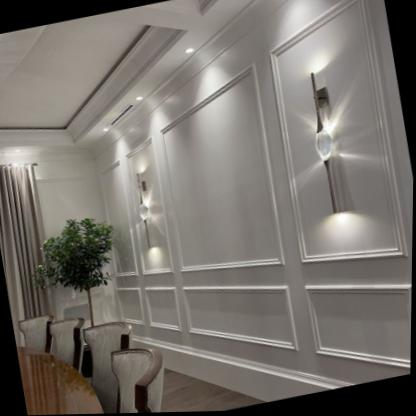Futec frame: (265, 0, 413, 373), (153, 59, 306, 361)
